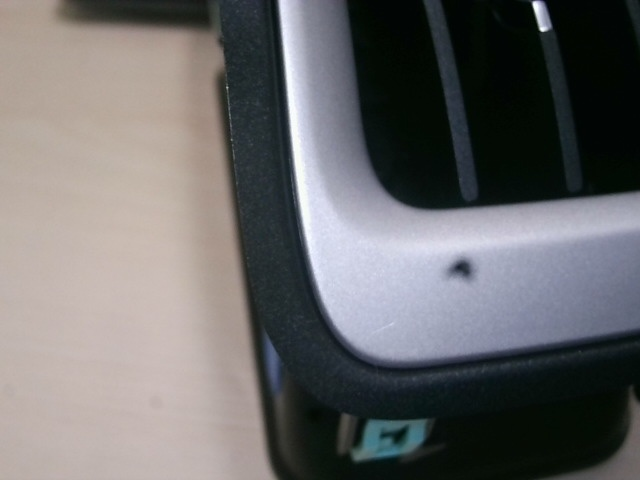NG: (373, 316, 403, 337)
